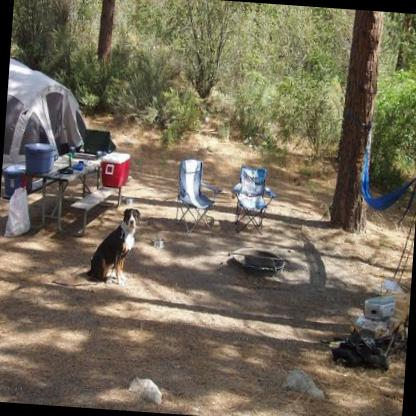Greater_Swiss_Mountain_dog: (84, 204, 140, 287)
